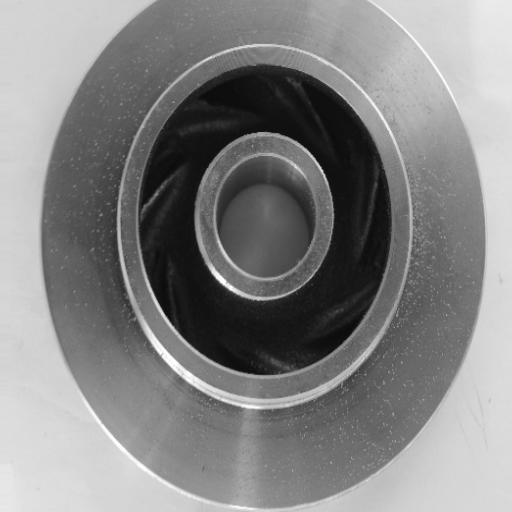polished_casting: (38, 0, 489, 510)
